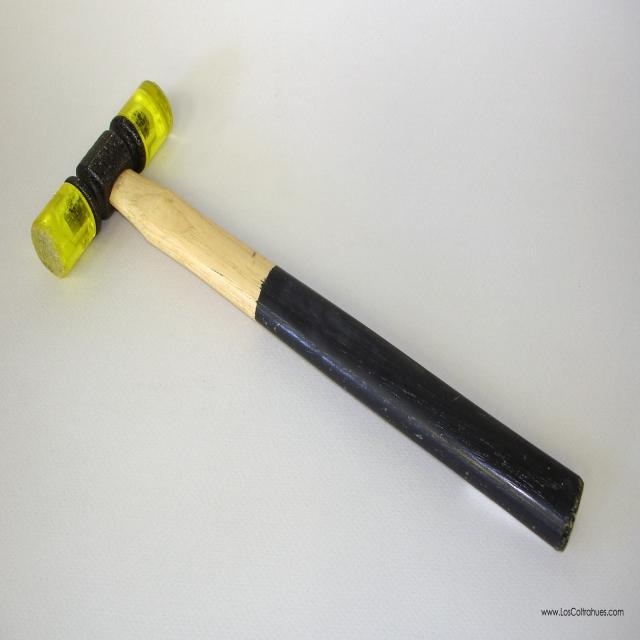hammer: (22, 69, 590, 552)
